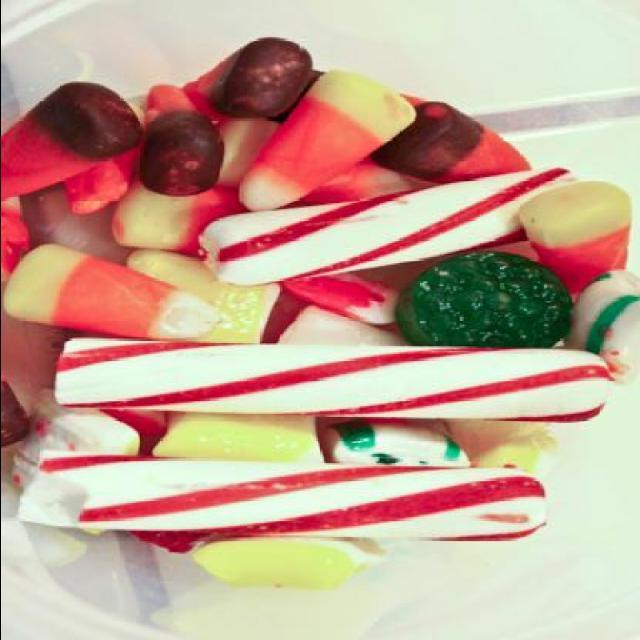Candy: (8, 35, 640, 592)
